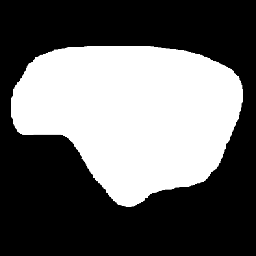mass: (13, 40, 240, 199)
